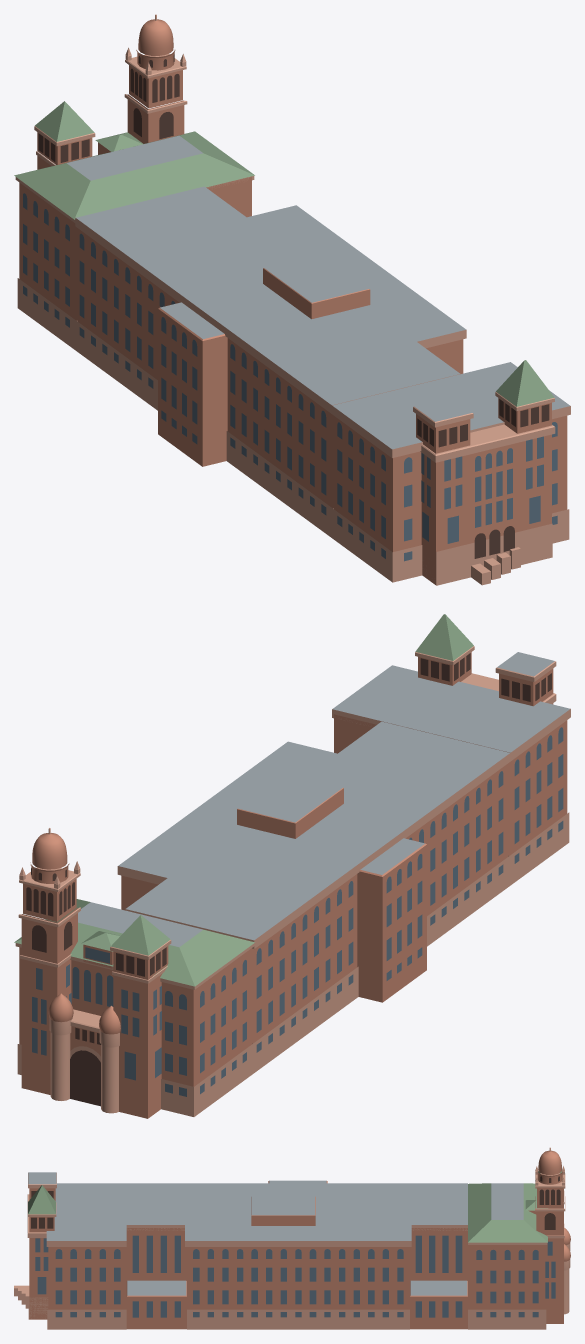
Rendered from sat-bexar-county-courthouse.glb.
3 renders of one model, top to bottom at view 1: azimuth 30°, elevation 25°; view 2: azimuth 150°, elevation 25°; view 3: azimuth 270°, elevation 25°, orthographic. The views are drawn at different scales.
Visible parts, largest first — view 1: Bexar County Courthouse; view 2: Bexar County Courthouse; view 3: Bexar County Courthouse.
Part boxes in pixels (box(x1,y1,x2,y2)): Bexar County Courthouse: box(14, 14, 570, 585); Bexar County Courthouse: box(14, 614, 570, 1118); Bexar County Courthouse: box(14, 1147, 570, 1329).
Size of the model in its own units: 36.36 by 44 by 130.
